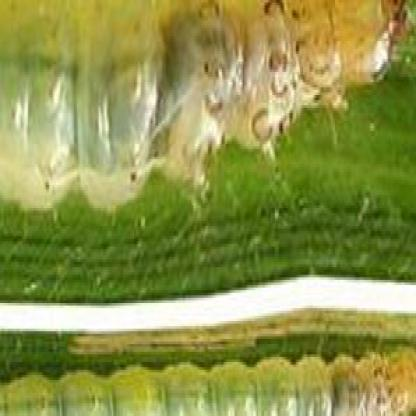leaf-folder: (0, 0, 361, 226), (16, 321, 414, 416)
